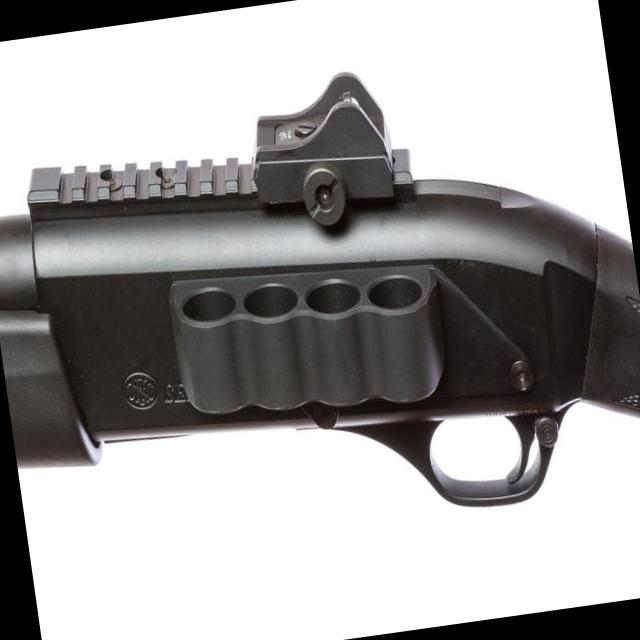Gun: (0, 73, 640, 506)
